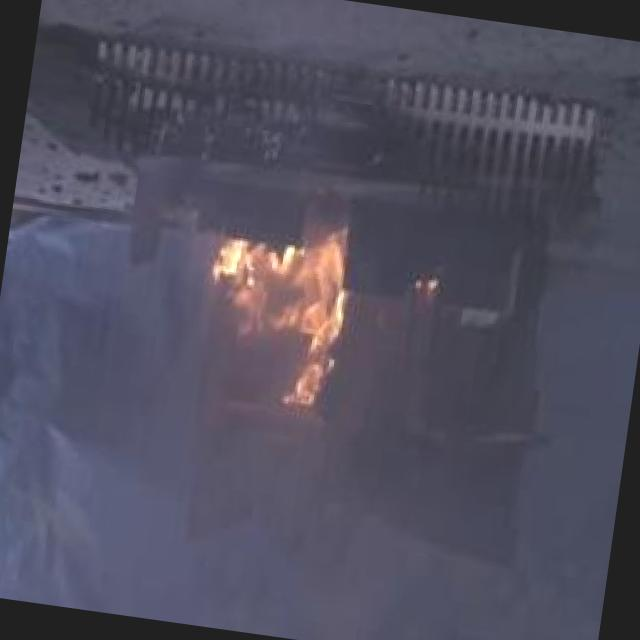fire: (198, 216, 362, 414)
